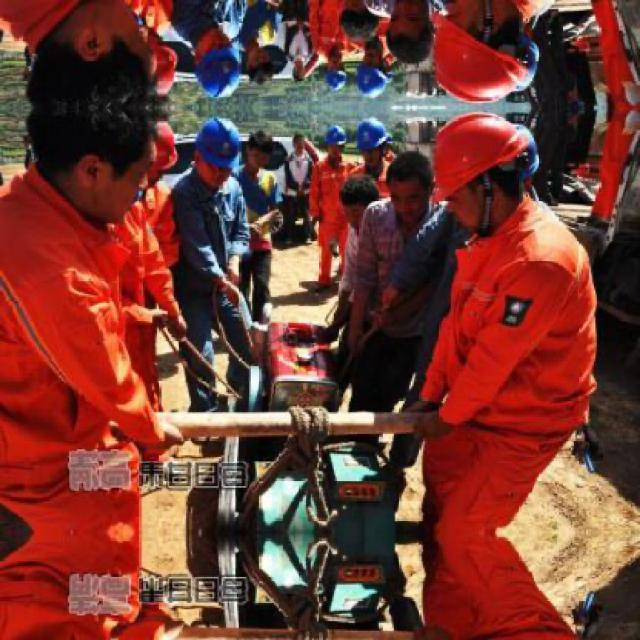con casco: (437, 116, 568, 254), (196, 116, 257, 169), (362, 120, 404, 162)
sin casco: (41, 87, 199, 224), (391, 147, 472, 211)
